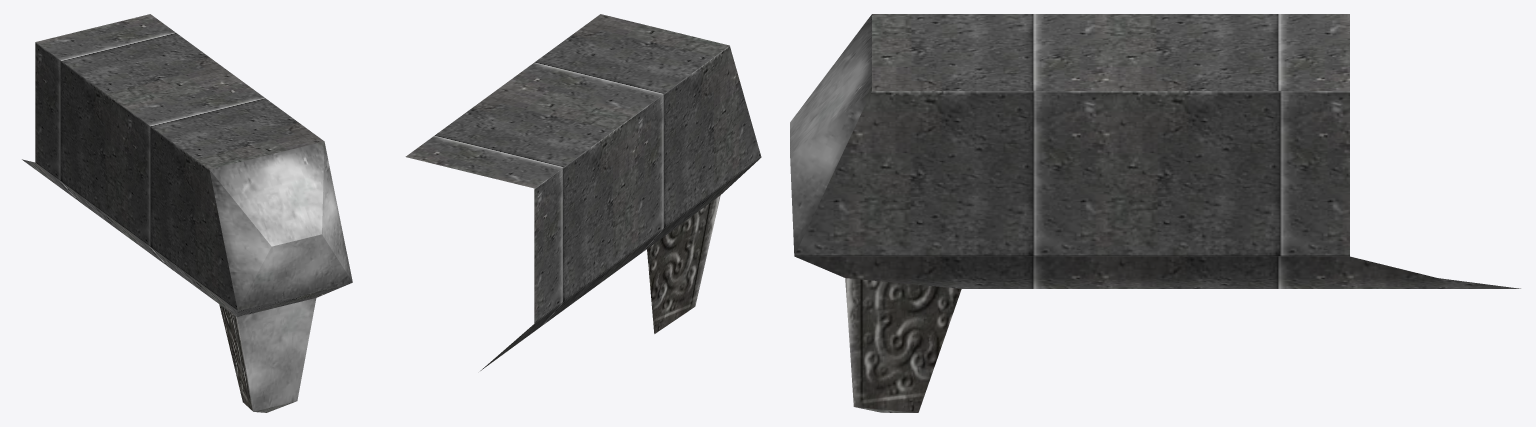
The picture shows the model from 3 angles, left to right: view 1: azimuth 30°, elevation 25°; view 2: azimuth 150°, elevation 25°; view 3: azimuth 270°, elevation 25°; orthographic projection. The views are drawn at different scales.
Parts seen in each view (by area): view 1: model_Object16; view 2: model_Object16; view 3: model_Object16.
Boxes of the visible parts, x1,y1,x2,y2 form: model_Object16: (22, 14, 352, 412); model_Object16: (405, 14, 761, 370); model_Object16: (790, 14, 1520, 412).
Size of the model in its own units: 1 by 2.17 by 4.01.
Materials: 4 (4 with a texture image).
